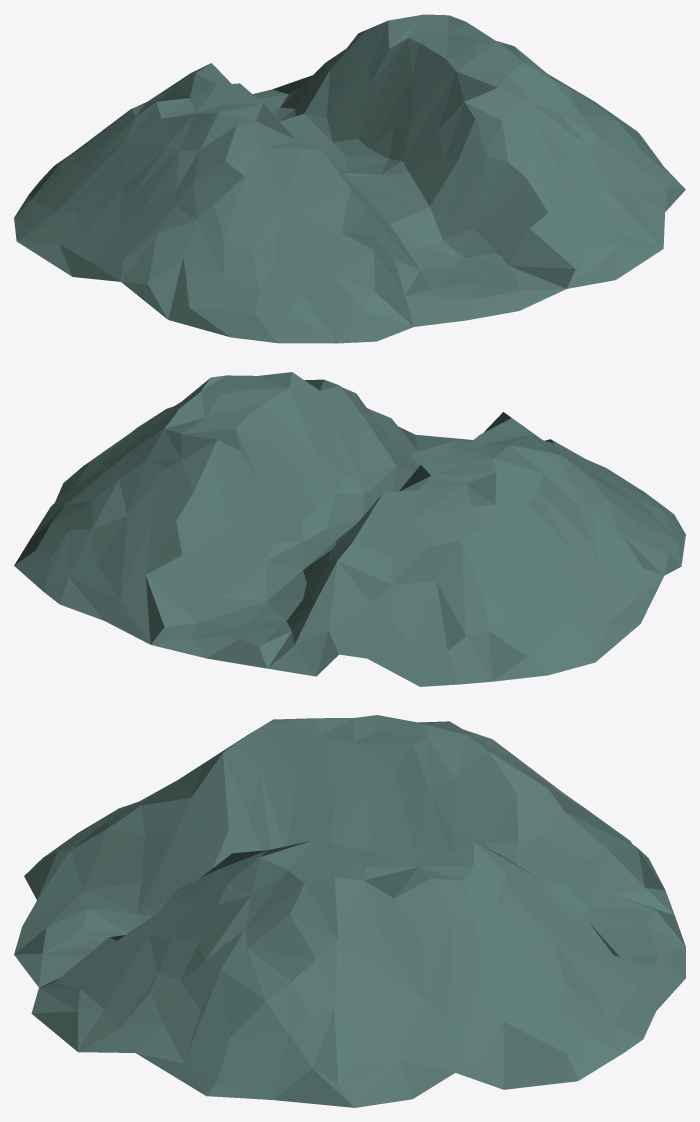
Rendered from river4.fbx.
The picture shows the model from 3 angles, top to bottom: view 1: azimuth 30°, elevation 25°; view 2: azimuth 150°, elevation 25°; view 3: azimuth 270°, elevation 25°; orthographic projection. The views are drawn at different scales.
Visible parts, largest first — view 1: river4; view 2: river4; view 3: river4.
Part boxes in pixels (left/top/right/bottom): river4: left=14, top=14, right=685, bottom=343; river4: left=14, top=372, right=685, bottom=686; river4: left=14, top=715, right=685, bottom=1107.
Bounding box in the file's own units: 1443 × 315 × 1254.
